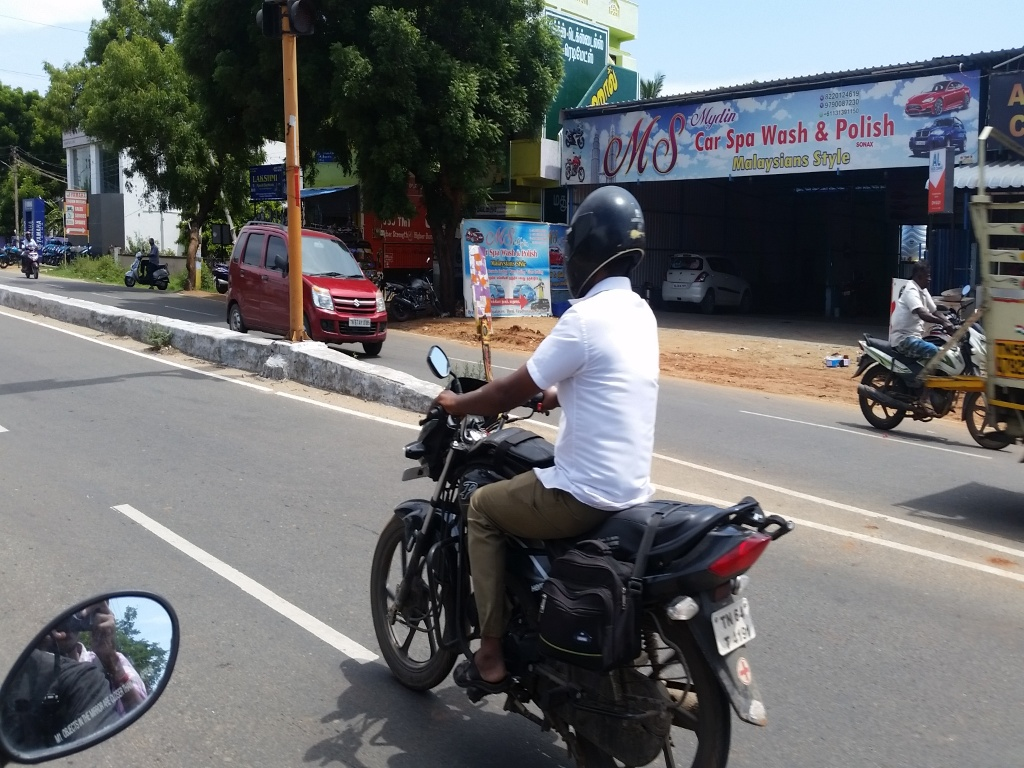biker: (325, 135, 818, 768)
helmet: (546, 167, 665, 310)
